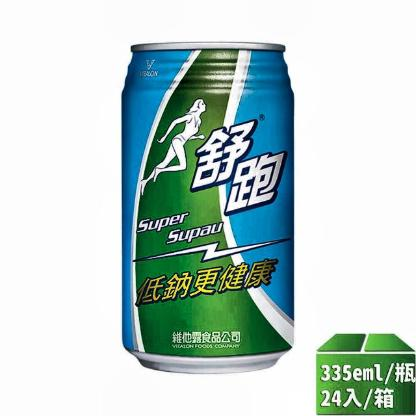Can: (118, 35, 298, 377)
